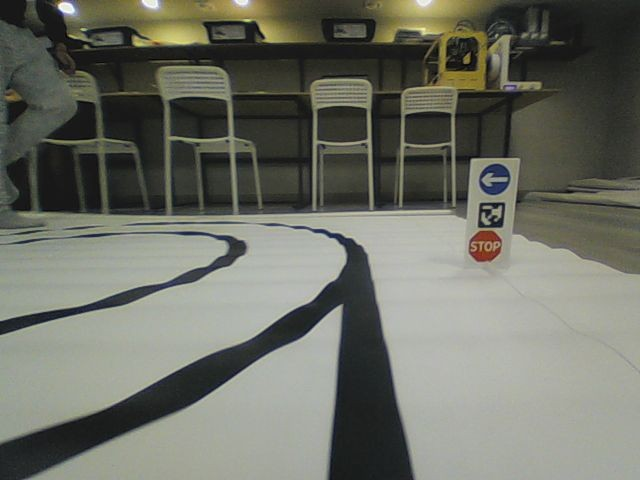Stop: (468, 229, 503, 264)
